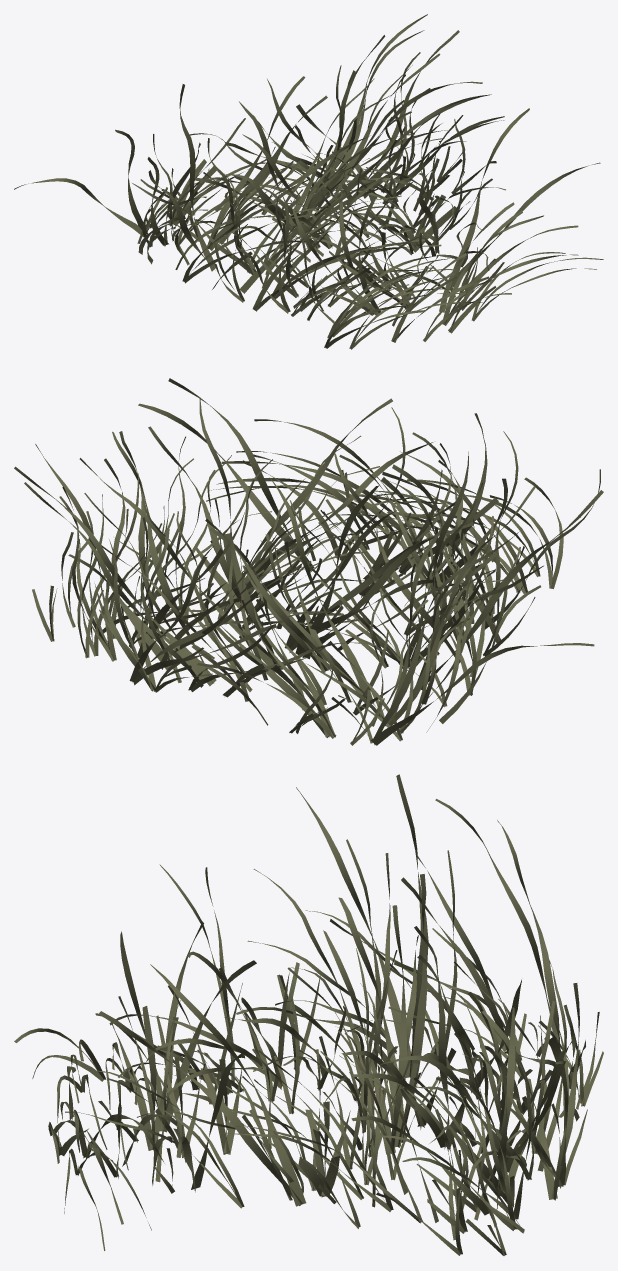
Rendered from grass_1 (2).fbx.
The picture shows the model from 3 angles, top to bottom: view 1: azimuth 30°, elevation 25°; view 2: azimuth 150°, elevation 25°; view 3: azimuth 270°, elevation 25°; orthographic projection. The views are drawn at different scales.
Parts seen in each view (by area): view 1: grassClump2Main; view 2: grassClump2Main; view 3: grassClump2Main.
Part boxes in pixels (<box>): grassClump2Main: <box>14,14,603,349</box>; grassClump2Main: <box>14,378,603,745</box>; grassClump2Main: <box>14,774,603,1255</box>.
Size of the model in its own units: 62.79 by 25.23 by 47.78.
